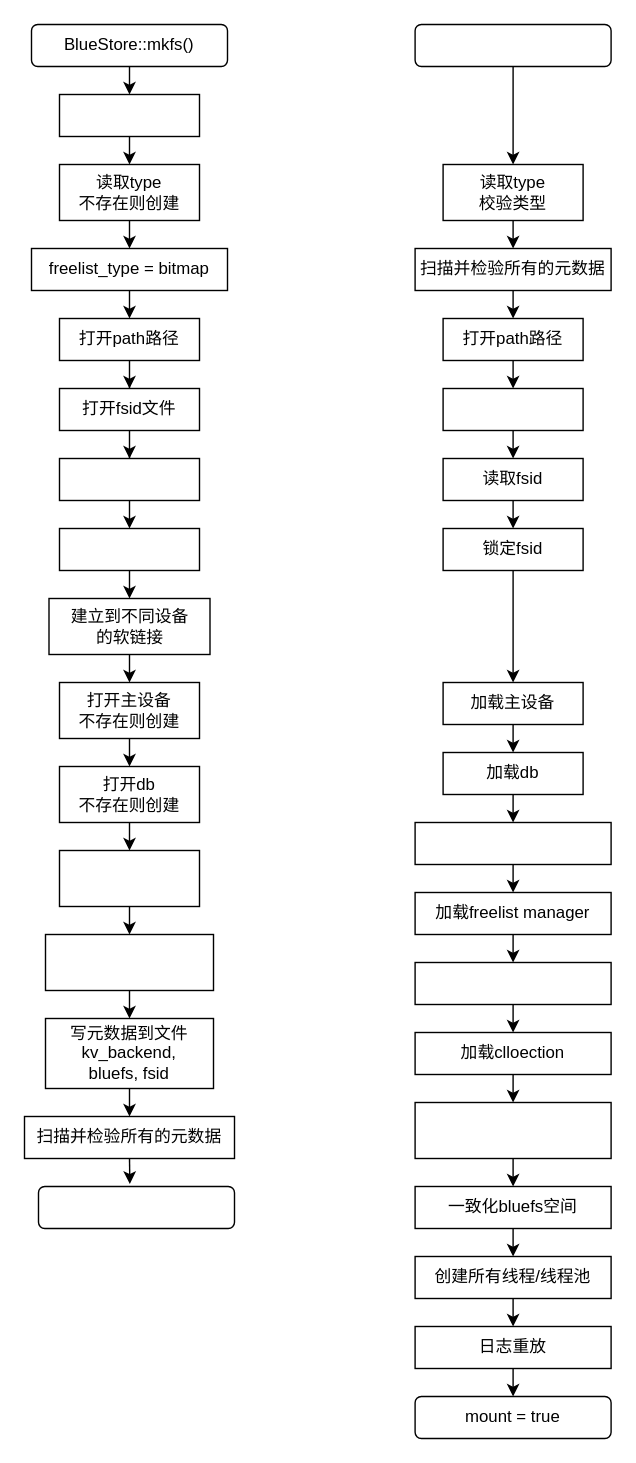
The diagram is 636 pixels wide and 1463 high, and some of its shapes have lost their labels. Each missing label, with the centre of its shape:
"BlueStore::_mount()" belongs at (512,44).
"mkfs_done: yes" belongs at (135,1206).
"从超级块中读取元数据" belongs at (512,842).
"创建freelistmanager" belongs at (129,877).
"初始化allocator" belongs at (512,982).
"初始化super结构并持久化到磁盘" belongs at (129,961).
"对fsid文件加锁" belongs at (129,478).
"打开fsid" belongs at (512,408).
"指定fsid" belongs at (129,548).
"读取mkfs_done" belongs at (129,114).
"重载性能计数器 PrefCounter" belongs at (512,1129).
